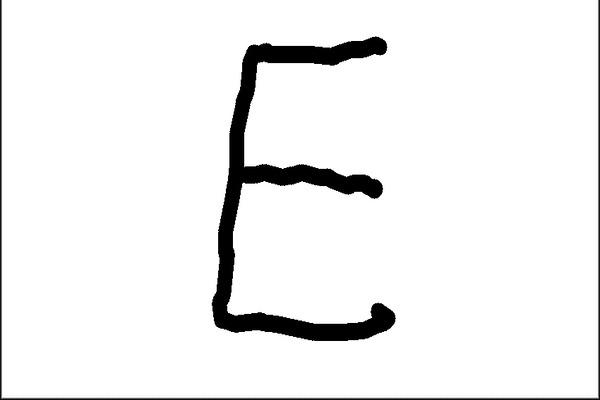E: (205, 29, 405, 346)
